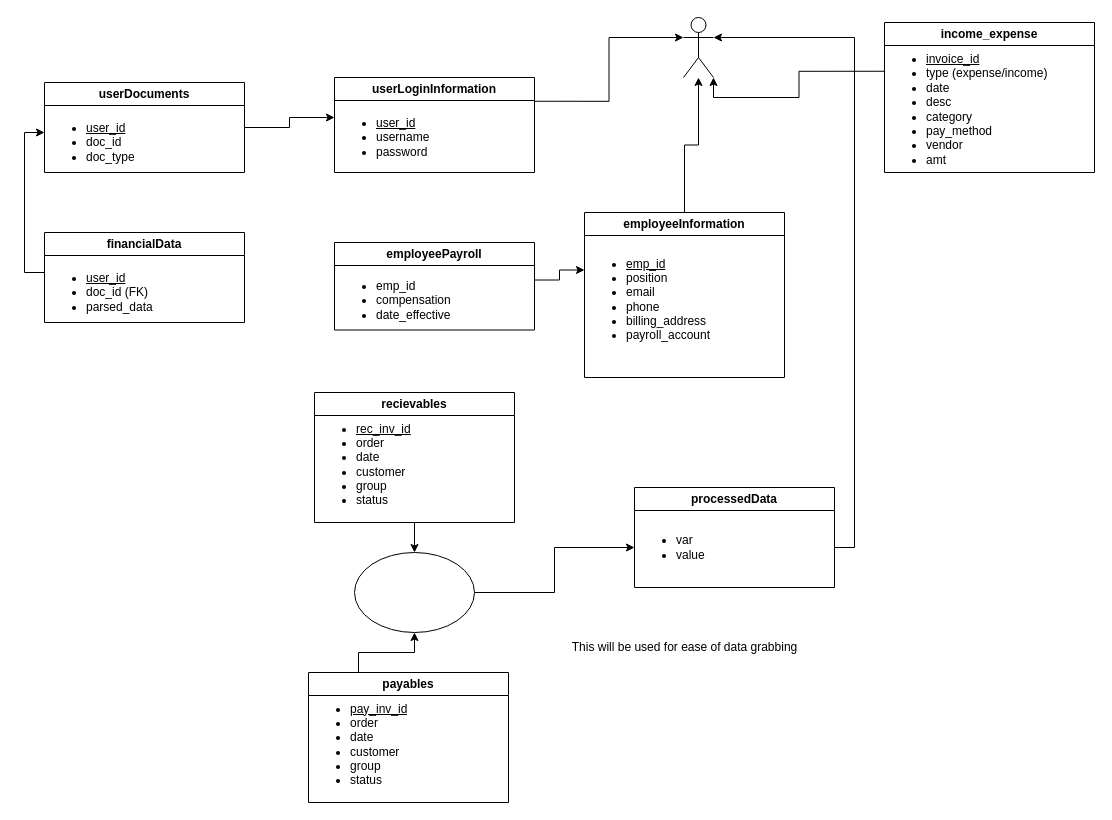
This 1112x820 diagram has some shape labels left out. Each missing label, with the centre of its shape:
"Data Processing" goes at point 414,592.
"GUI" goes at point 698,47.
